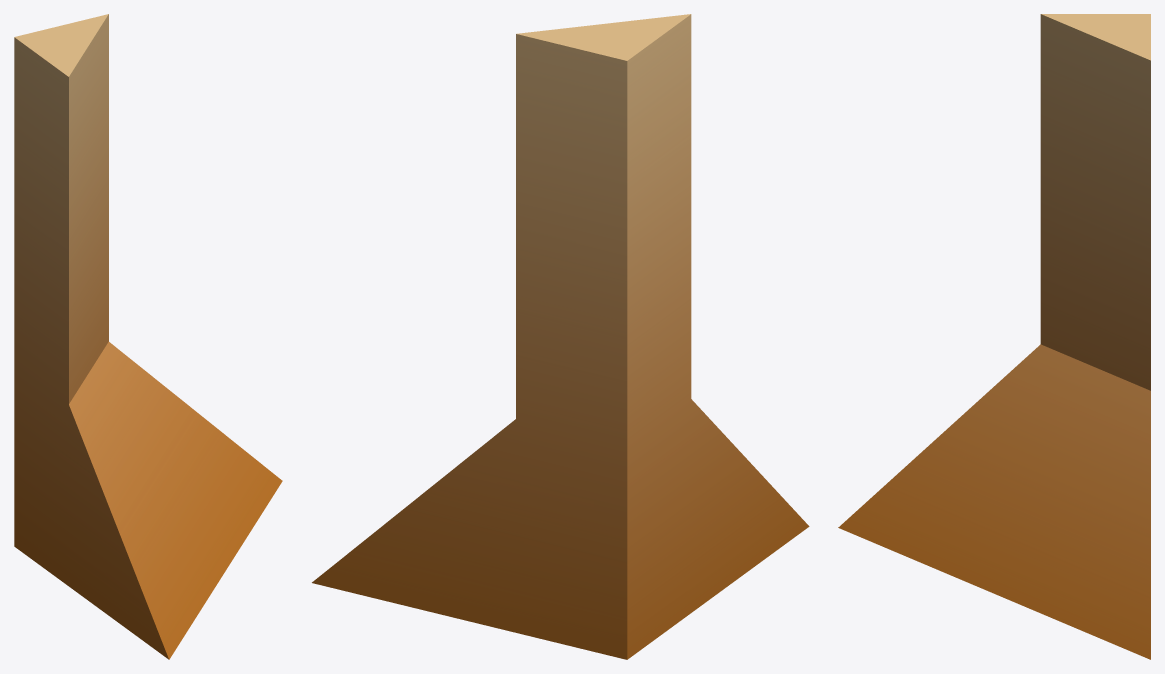
Rendered from base_inner_corner.fbx.
3 views of the same model, side by side, from view 1: azimuth 30°, elevation 25°; view 2: azimuth 150°, elevation 25°; view 3: azimuth 270°, elevation 25° (orthographic). The views are drawn at different scales.
Parts seen in each view (by area): view 1: base.inner.corner; view 2: base.inner.corner; view 3: base.inner.corner.
Part boxes in pixels (<box>): base.inner.corner: <box>14,14,282,659</box>; base.inner.corner: <box>312,14,809,659</box>; base.inner.corner: <box>838,14,1150,659</box>.
Bounding box in the file's own units: 15.01 × 27.2 × 15.01.
